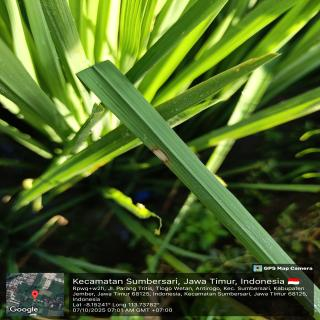Blast: (150, 148, 171, 168)
